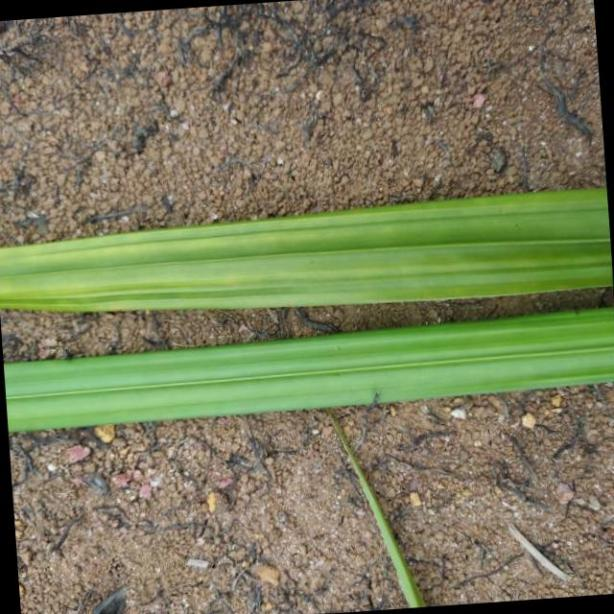nitrogen: (0, 184, 614, 312), (0, 307, 614, 435)
